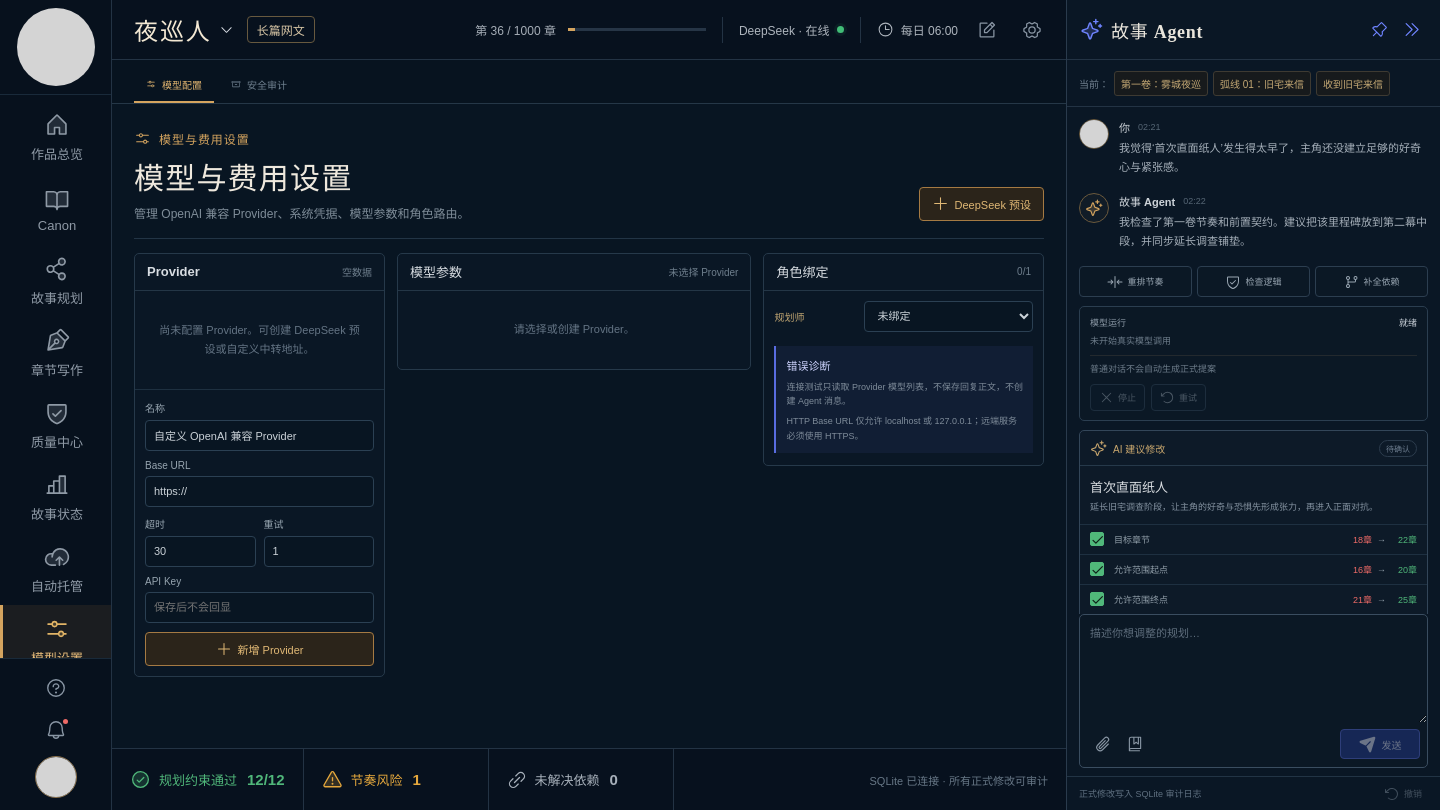
Test: Story Agent shell › opens the safety audit workspace with backup and diagnostics panels
Click the button "安全审计": (259, 85) [219, 67, 299, 103]
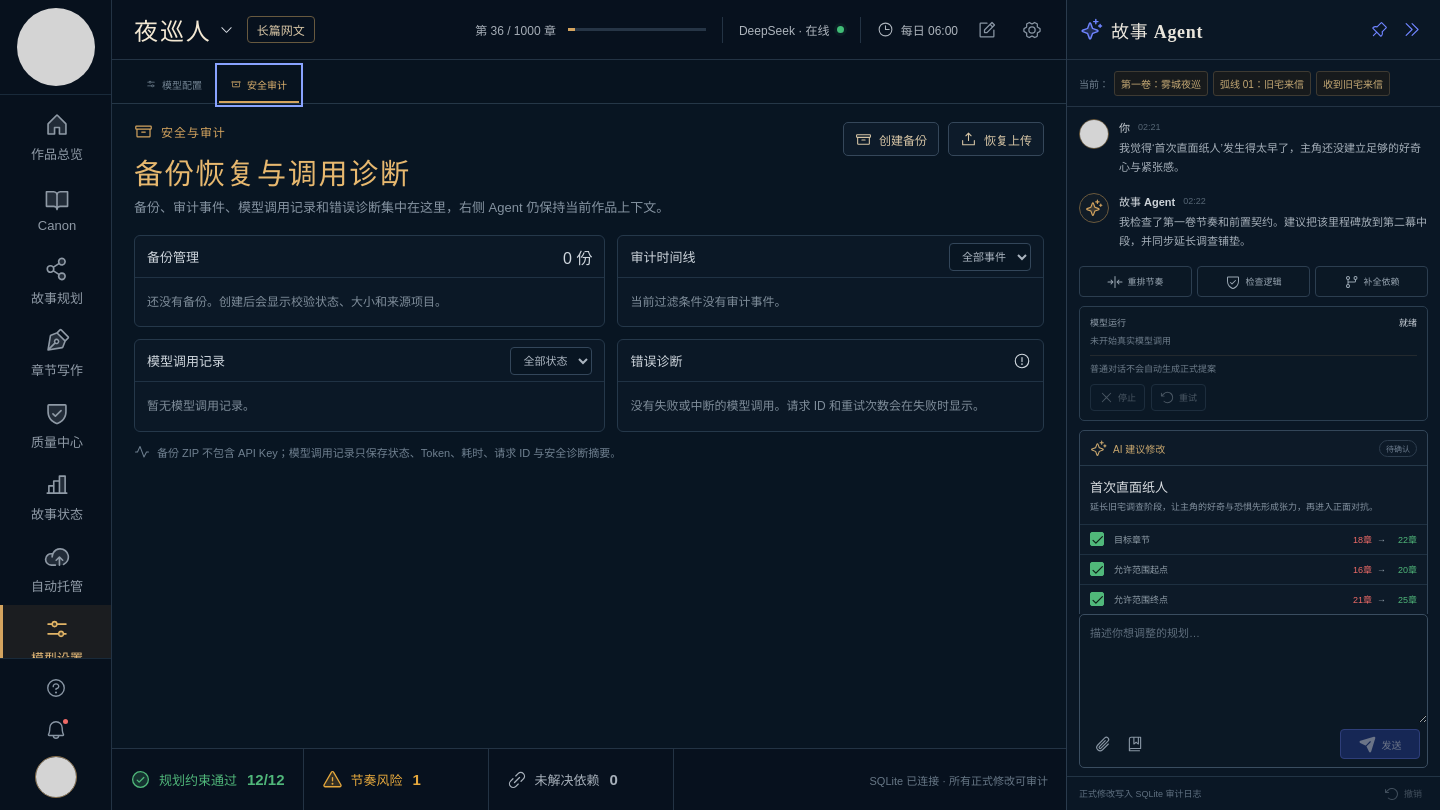
expect the heading "备份恢复与调用诊断" is shown: met, box [134, 158, 411, 190]
expect the element "备份管理" is shown: met, box [134, 235, 605, 328]
expect the element "审计时间线" is shown: met, box [617, 235, 1044, 328]
